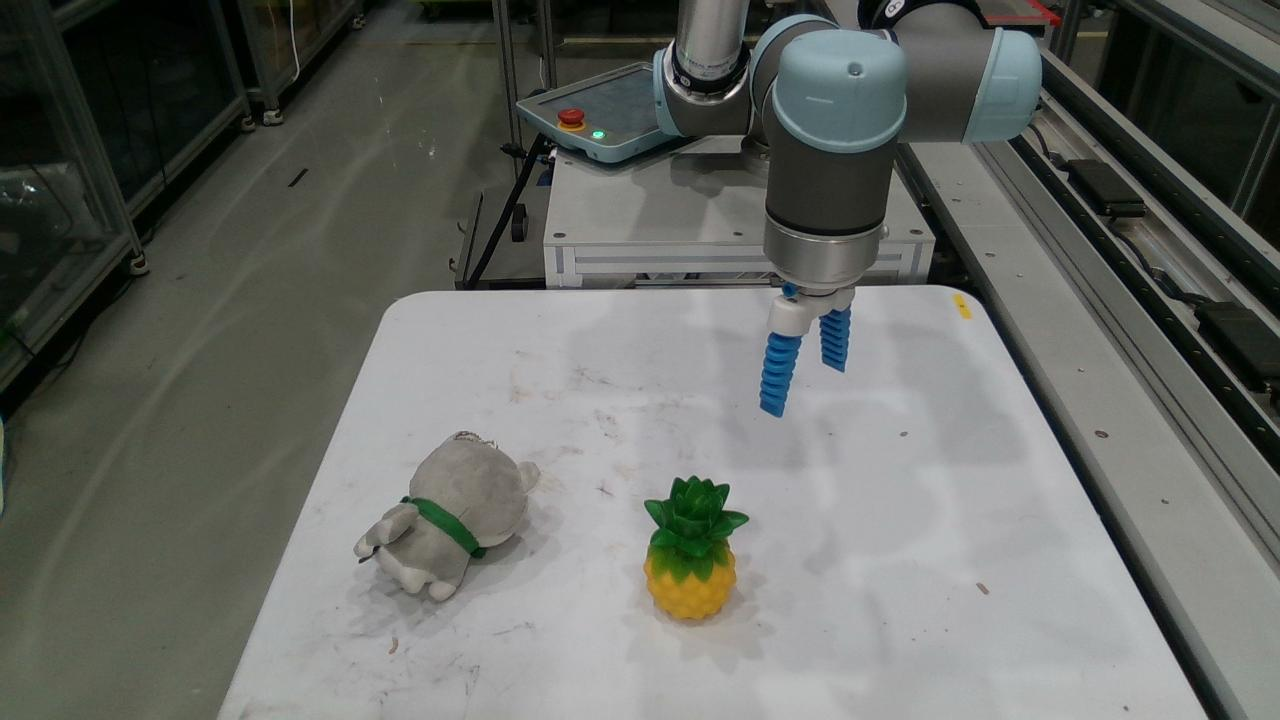UR5: (660, 1, 1042, 335)
gripper_left: (762, 333, 798, 415)
gripper_right: (820, 308, 848, 369)
target: (356, 432, 536, 601), (648, 476, 746, 619)
